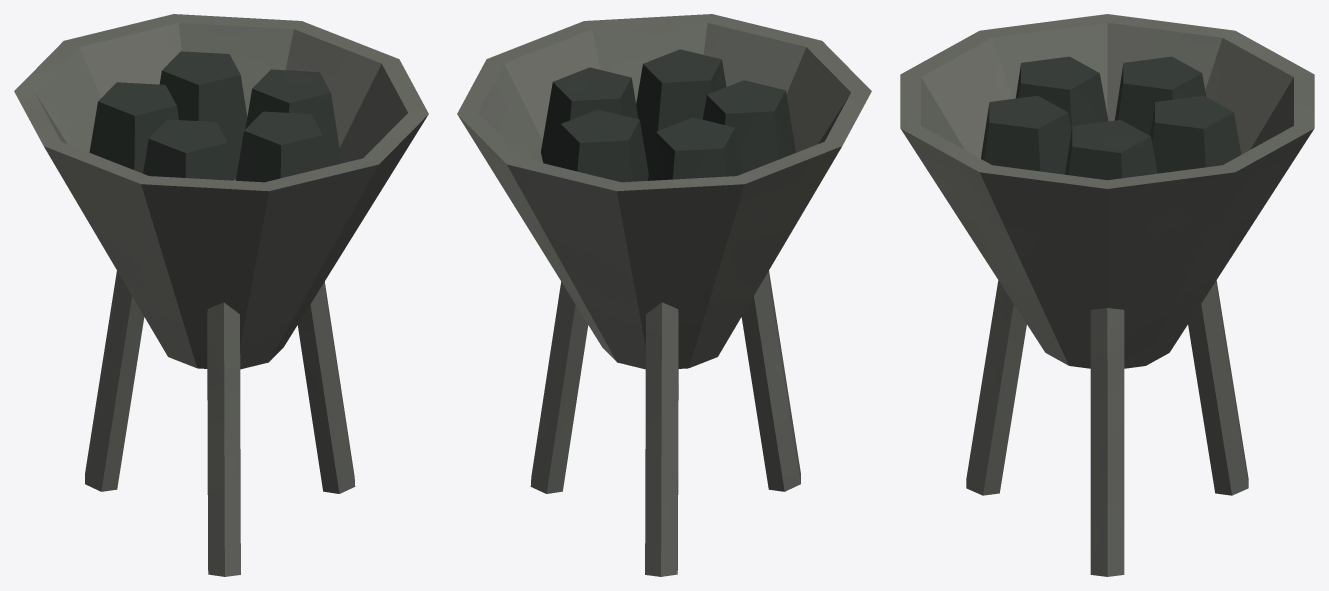
File: WarrensC_WVC065_EmberBrazier_Mars_SM.fbx
3 renders of one model, left to right at view 1: azimuth 30°, elevation 25°; view 2: azimuth 150°, elevation 25°; view 3: azimuth 270°, elevation 25°, orthographic.
Visible parts, largest first — view 1: WarrensC_WVC065_EmberBrazier_Mars_SM.001; view 2: WarrensC_WVC065_EmberBrazier_Mars_SM.001; view 3: WarrensC_WVC065_EmberBrazier_Mars_SM.001.
Boxes of the visible parts, left/top/right/bottom form: WarrensC_WVC065_EmberBrazier_Mars_SM.001: left=14, top=14, right=428, bottom=576; WarrensC_WVC065_EmberBrazier_Mars_SM.001: left=457, top=14, right=871, bottom=576; WarrensC_WVC065_EmberBrazier_Mars_SM.001: left=900, top=14, right=1314, bottom=576.
Size of the model in its own units: 90 by 90 by 100.
